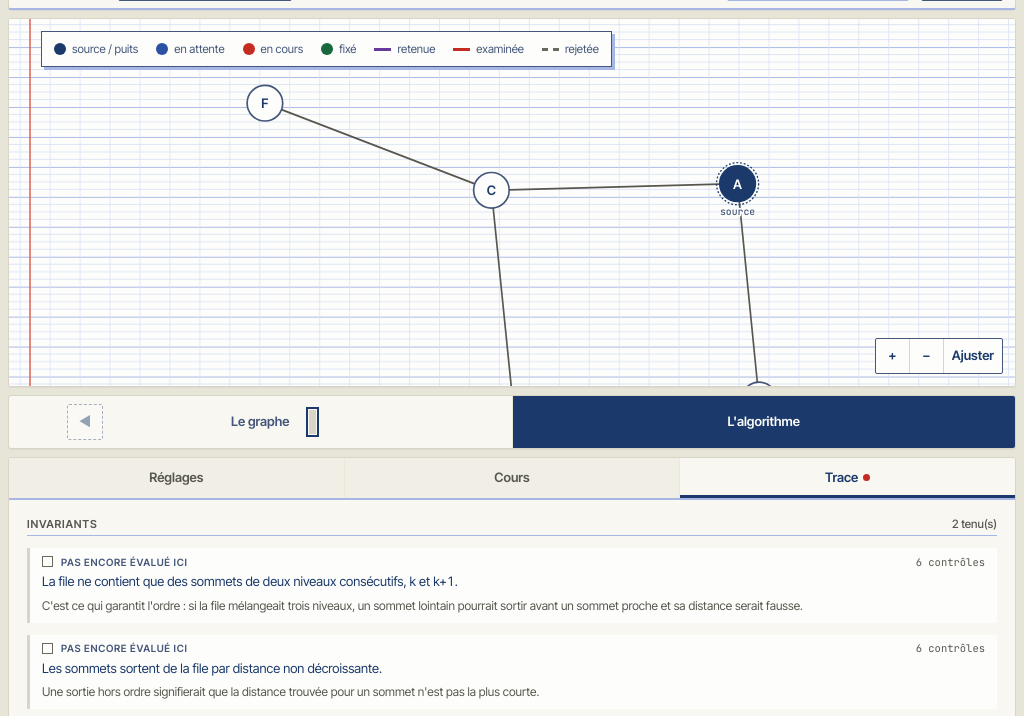
rail de droite à onglets › garde la trace en changeant d'onglet
Earlier steps of the test are not shown.
Click the tab "Cours" at (513, 478), box [345,458,680,498]
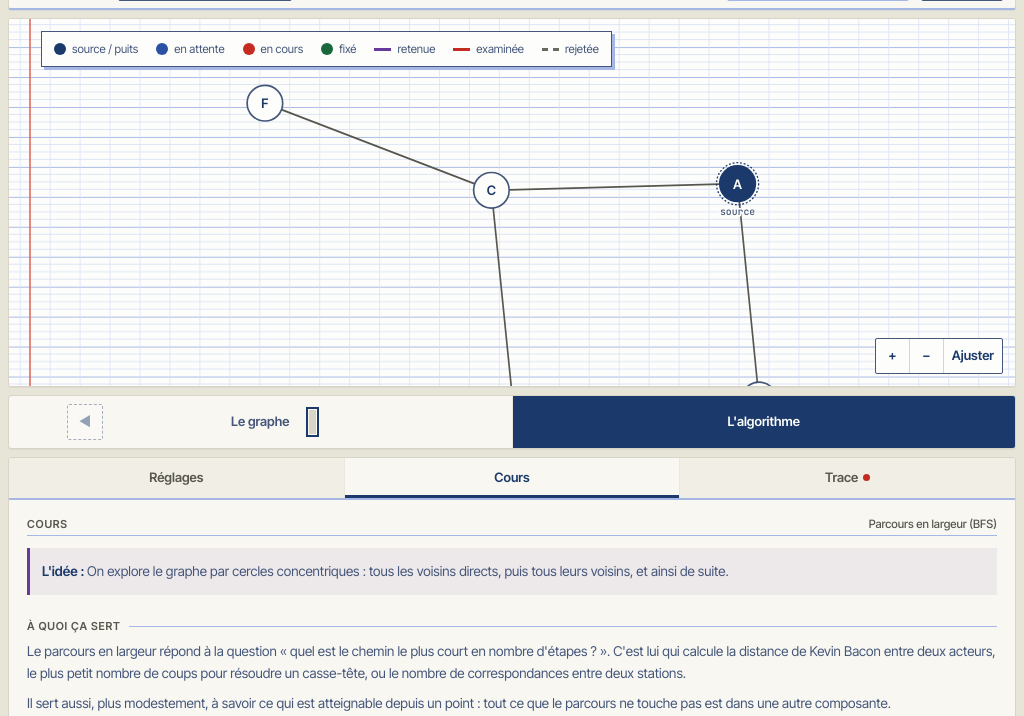
Click the tab "Trace" at (848, 478), box [680,458,1015,498]
(page scrolled)
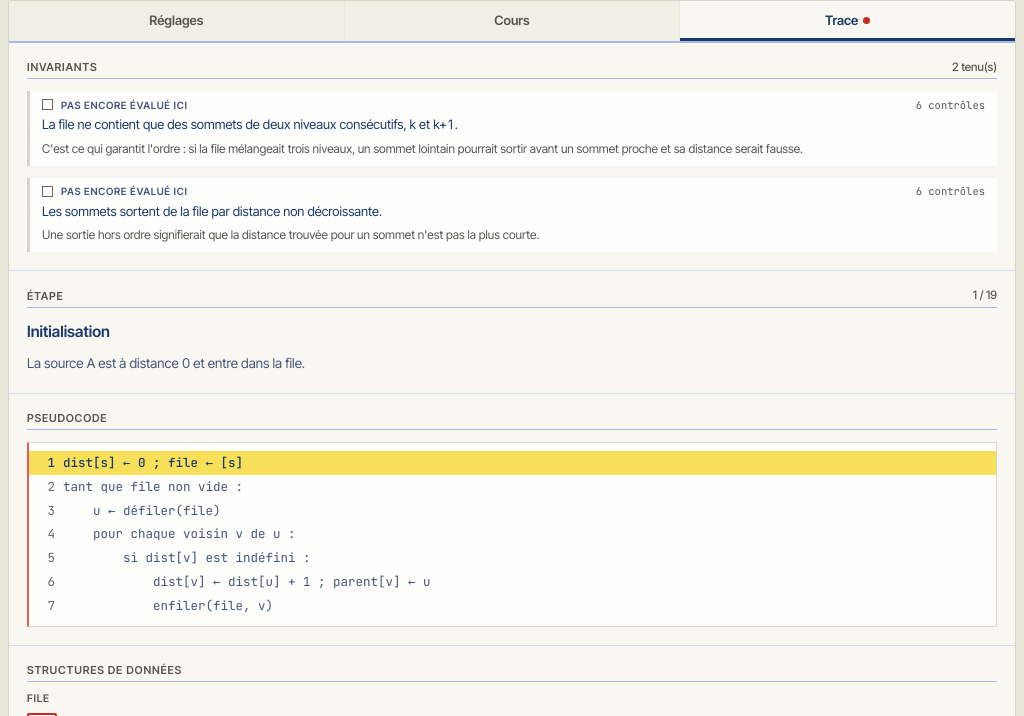
Result: the text "Initialisation" is shown at [27,320,110,345]
